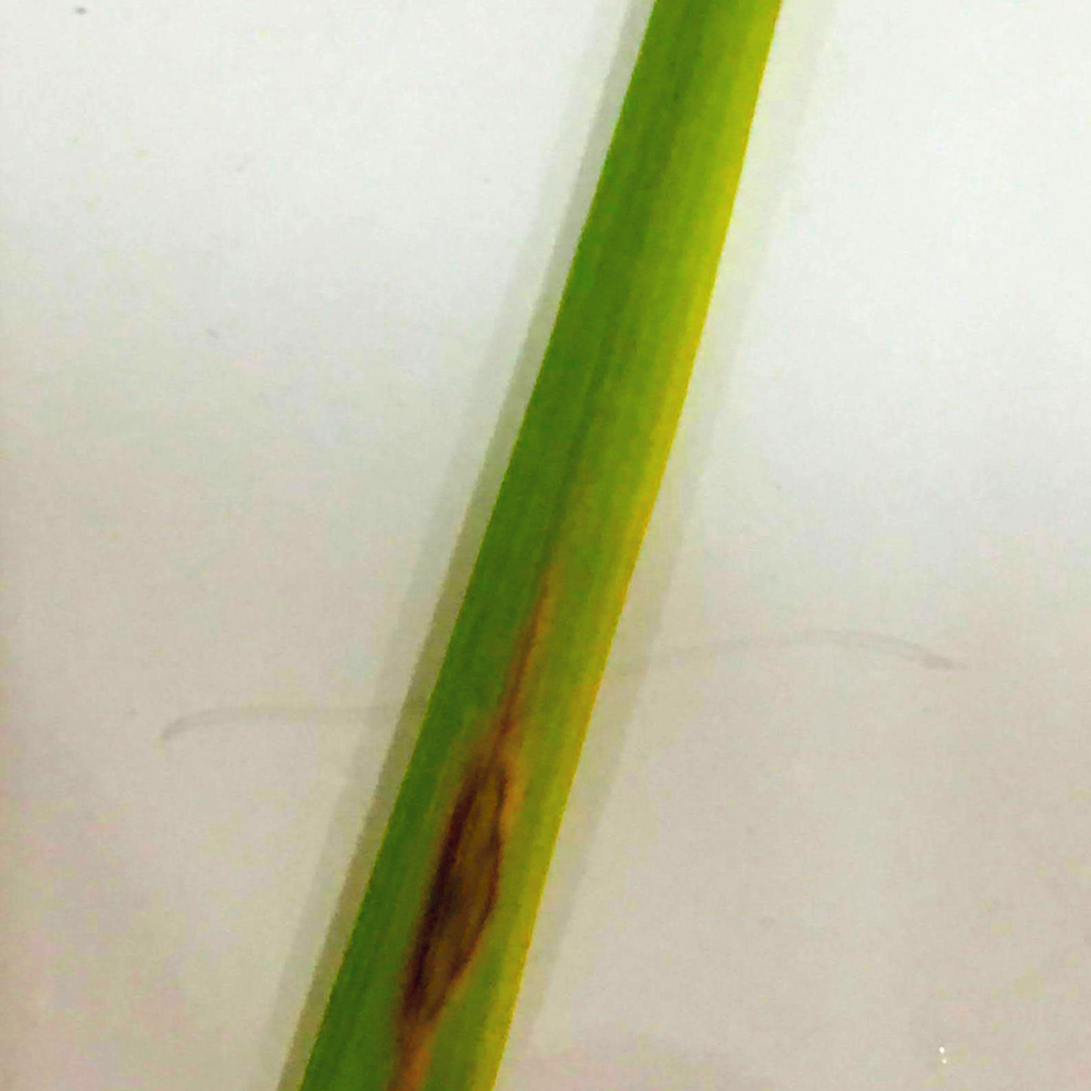Brown_Spot: (387, 675, 515, 1072)
